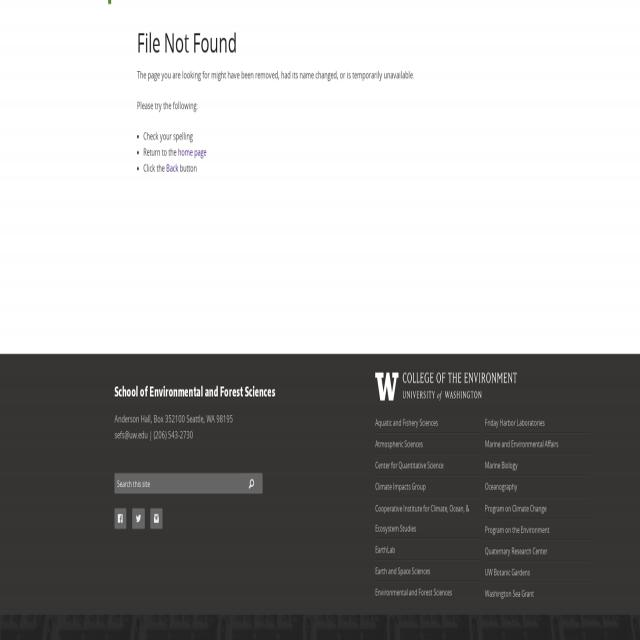button: (375, 372, 517, 401), (240, 473, 263, 494), (132, 508, 145, 529), (150, 508, 162, 529), (115, 508, 126, 529)
field: (114, 473, 240, 494)
